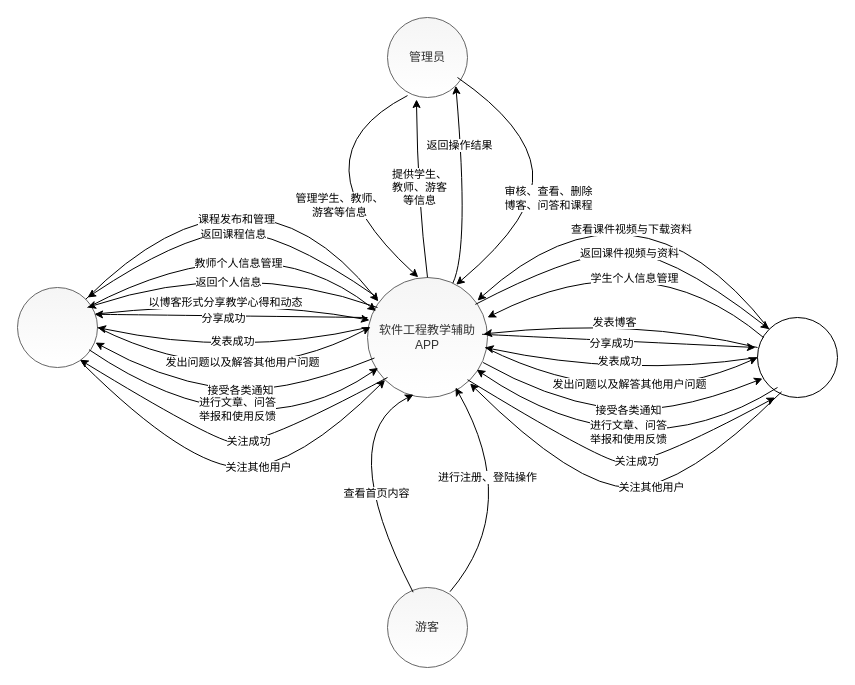
Image size: 855x685. Some labels were removed from this diagram. The shapes that lost their labels are listed below. From the top down, each one's centre as x and y in pixels, then its label:
(x=57, y=327): 教师
(x=797, y=357): 学生
